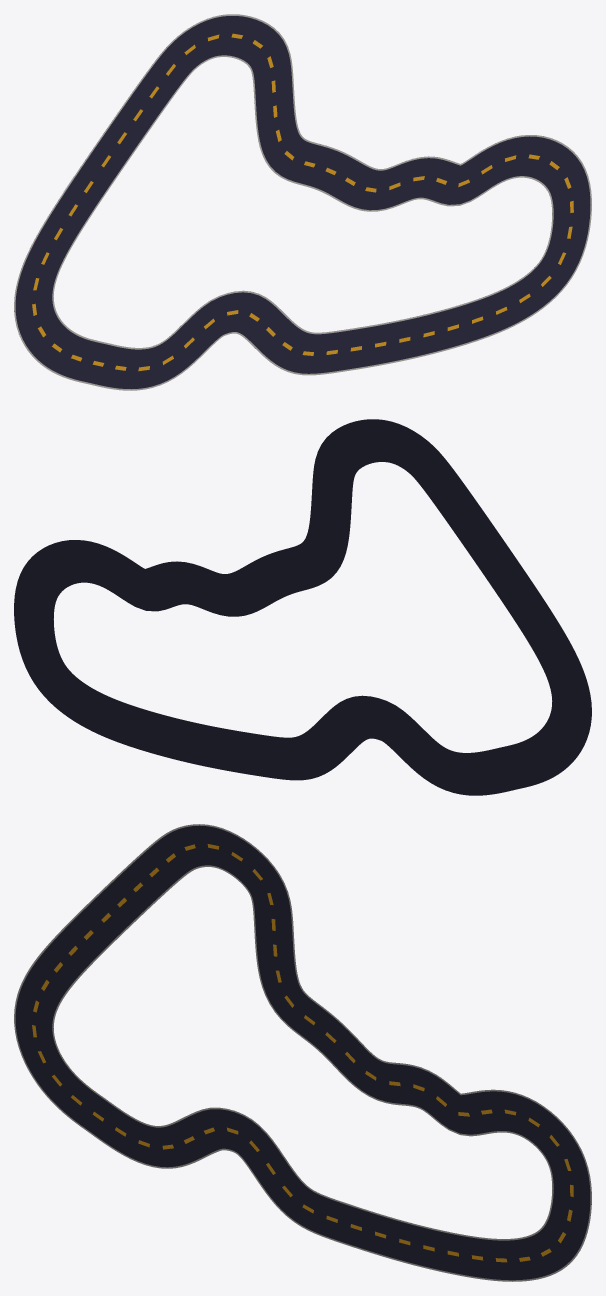
File: track.obj
3 renders of one model, top to bottom at view 1: azimuth 30°, elevation 25°; view 2: azimuth 150°, elevation 25°; view 3: azimuth 330°, elevation 25°, orthographic.
Size of the model in its own units: 15.49 by 10.01 by 0.002.
